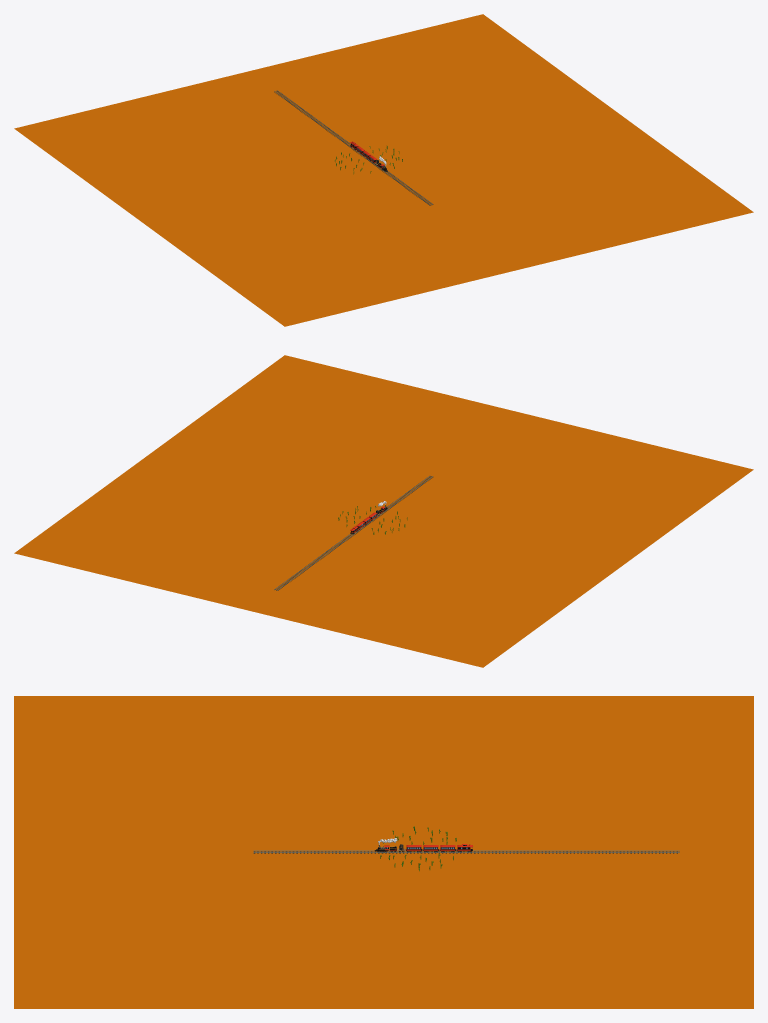
Rendered from gold_transport_train__western_wave.glb.
3 renders of one model, top to bottom at view 1: azimuth 30°, elevation 25°; view 2: azimuth 150°, elevation 25°; view 3: azimuth 270°, elevation 25°, orthographic. The views are drawn at different scales.
Visible parts, largest first — view 1: Plane, Cube.002; view 2: Plane, Cube.002; view 3: Plane, Cube.002, CoalWagon.
Boxes of the visible parts, x1,y1,x2,y2 form: Plane: (14,14,753,326); Cube.002: (274,90,433,205); Plane: (14,355,753,667); Cube.002: (274,475,433,590); Plane: (14,696,753,1008); Cube.002: (253,850,679,853); CoalWagon: (374,838,472,852).
Bounding box in the file's own units: 563 × 13.5 × 563.
Materials: 1 (1 with a texture image).
